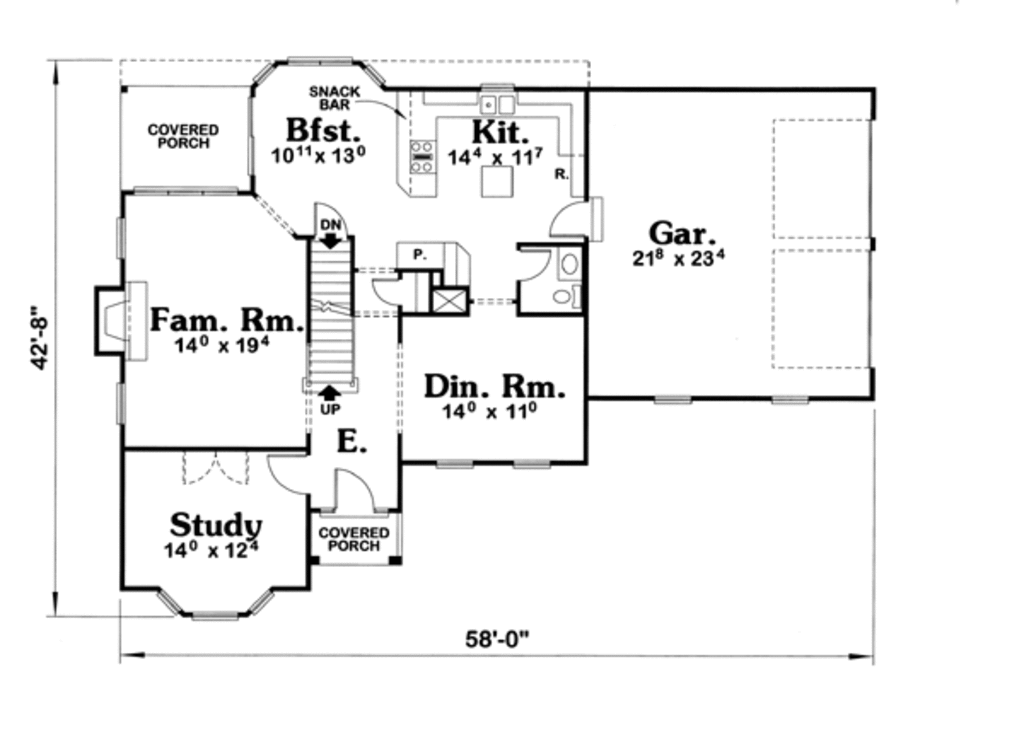door: (266, 447, 322, 501), (331, 459, 374, 515), (546, 195, 592, 243), (515, 243, 553, 287), (310, 197, 349, 236), (367, 269, 401, 309)
large_sink: (548, 282, 589, 312)
small_sink: (558, 245, 581, 282)
stairs: (301, 232, 365, 414)
twin_sink: (475, 88, 524, 124)
window: (247, 51, 386, 87), (156, 584, 275, 625), (128, 179, 245, 201), (109, 376, 131, 429), (645, 393, 697, 412), (511, 455, 555, 477), (430, 458, 476, 475), (769, 391, 811, 409), (115, 217, 129, 265)
